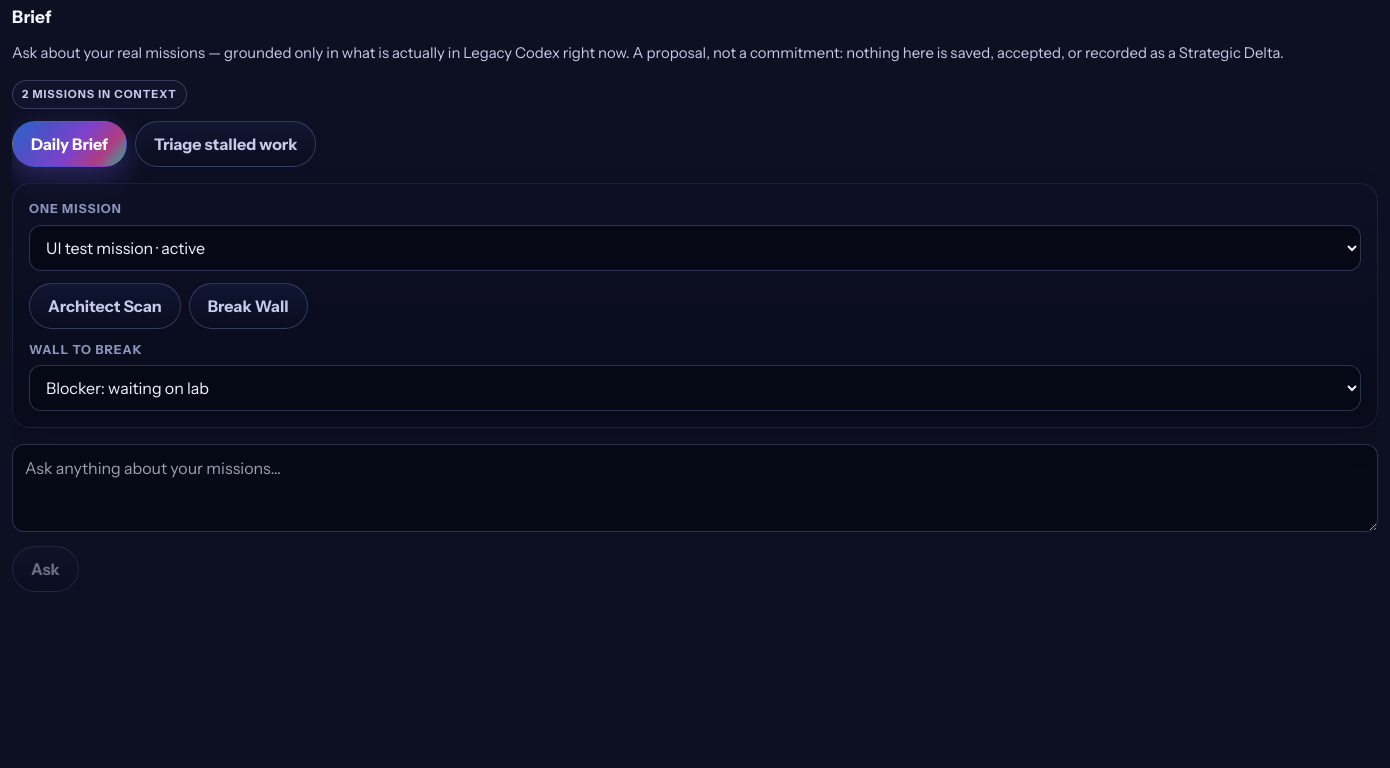
Test: BriefTab Architect Scan and Break Wall › offers the saved blocker and unfinished action, and sends only the chosen mission and wall
Select "Unfinished action: Email the lab" in the dropdown labelled "Wall to break" at [695, 388], box [29, 366, 1361, 412]
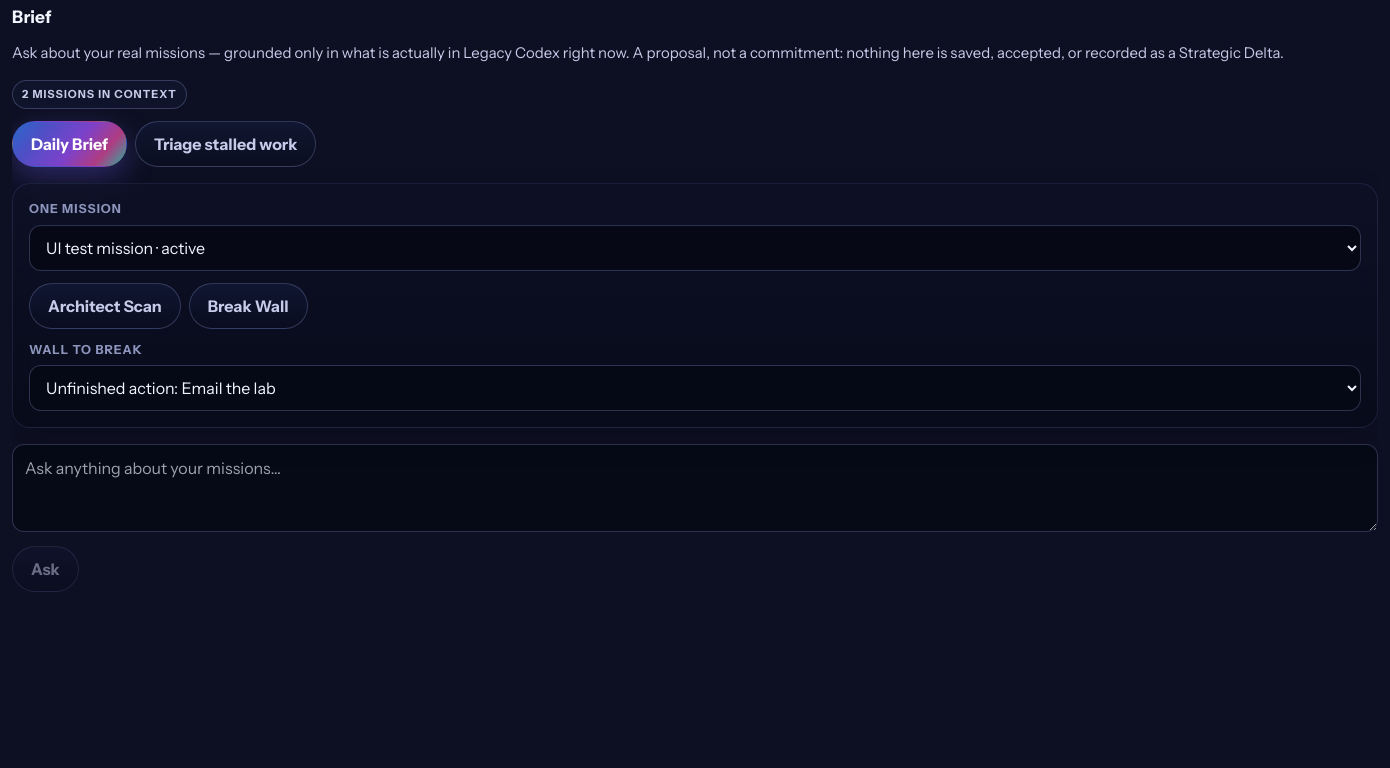
Click the button "Break Wall" at [248, 306], box [189, 283, 308, 329]
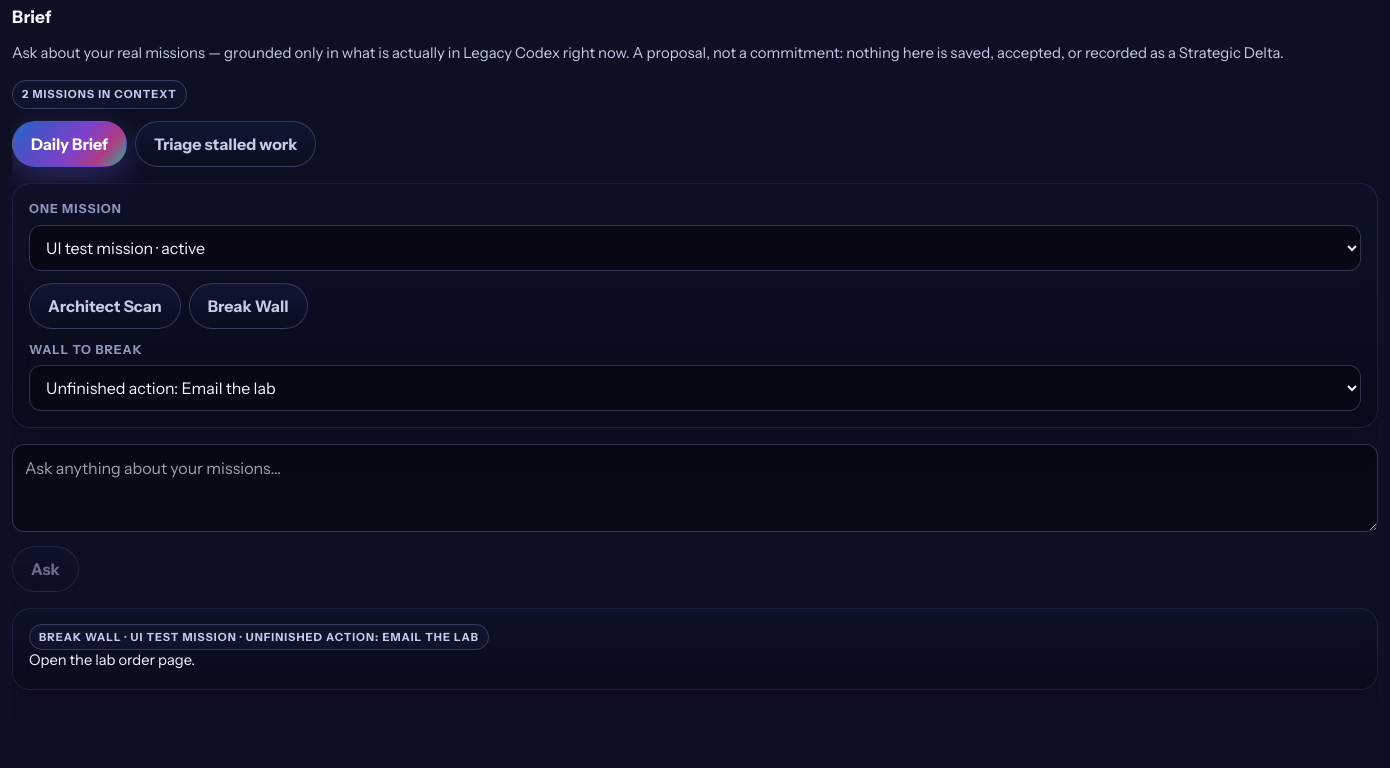
expect the text "Open the lab order page." is shown: met, box [29, 651, 195, 669]
